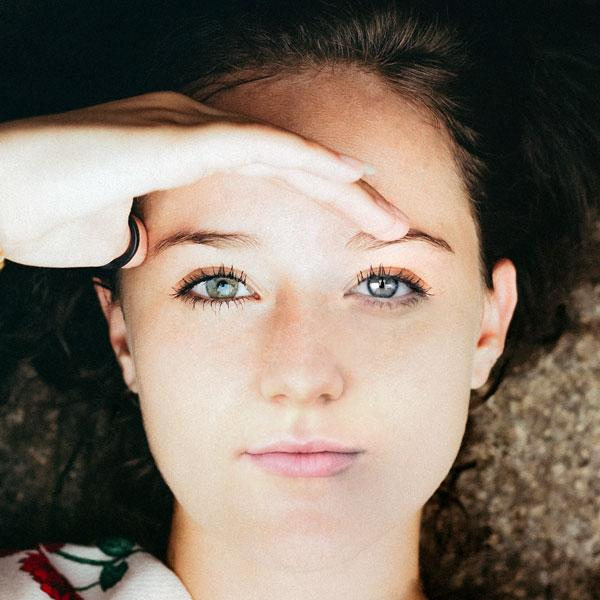Eyes: (161, 255, 271, 320), (334, 258, 438, 318)
